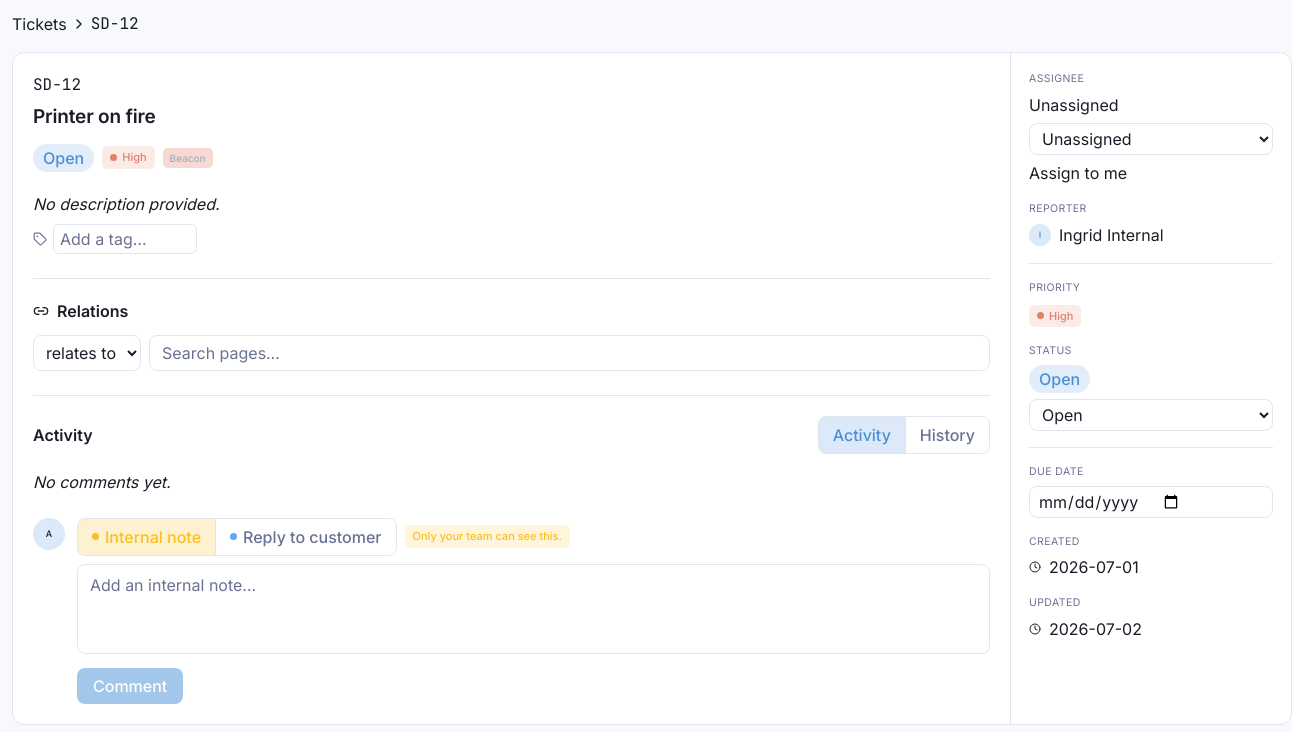
Test: comment composer visibility state chip › states the audience as a full sentence and changes it with the toggle
Check: the text with test id "comment-visibility-state" reads "Only your team can see this.", box x1=412 y1=529 x2=562 y2=543
Click the radio button labelled "Reply to customer" at (306, 537), box x1=216 y1=519 x2=396 y2=555
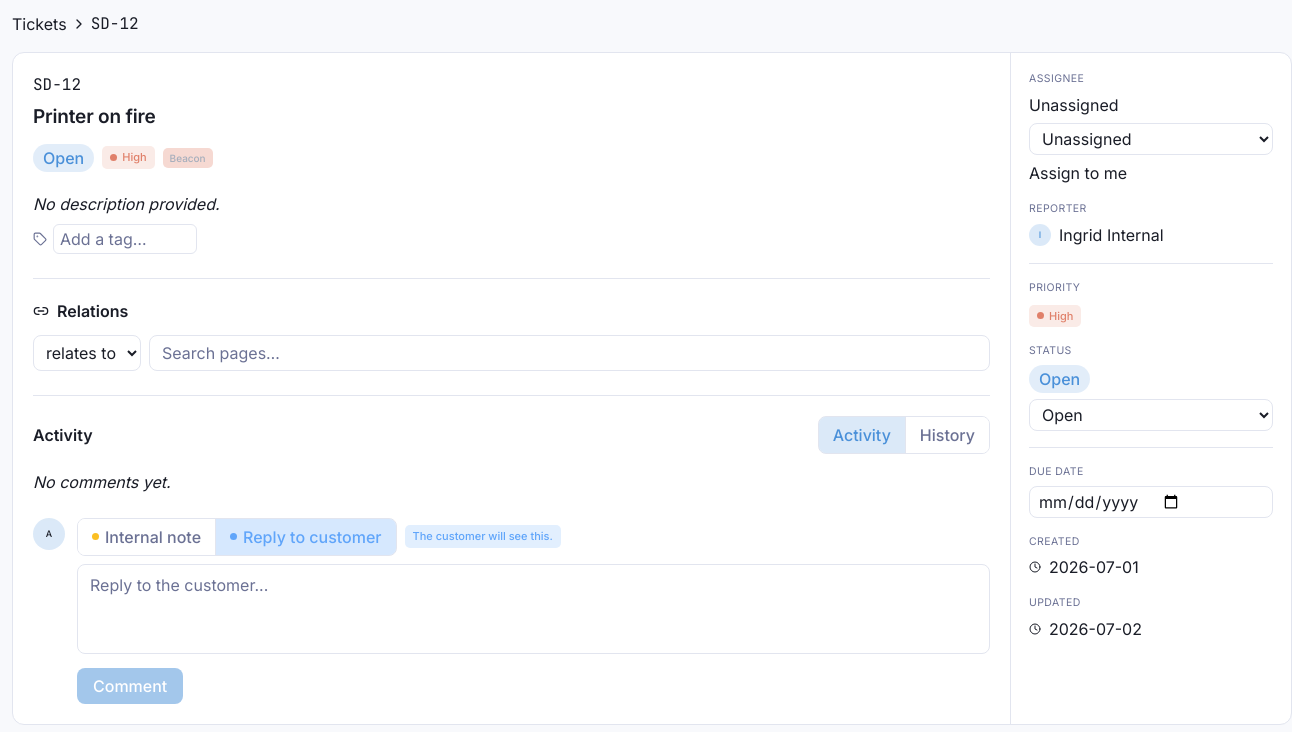
Check: the text with test id "comment-visibility-state" reads "The customer will see this.", box x1=412 y1=529 x2=553 y2=543
Note: And back — the chip tracks the control in both directions.
Click the radio button labelled "Internal note" at (147, 537), box x1=78 y1=519 x2=216 y2=555
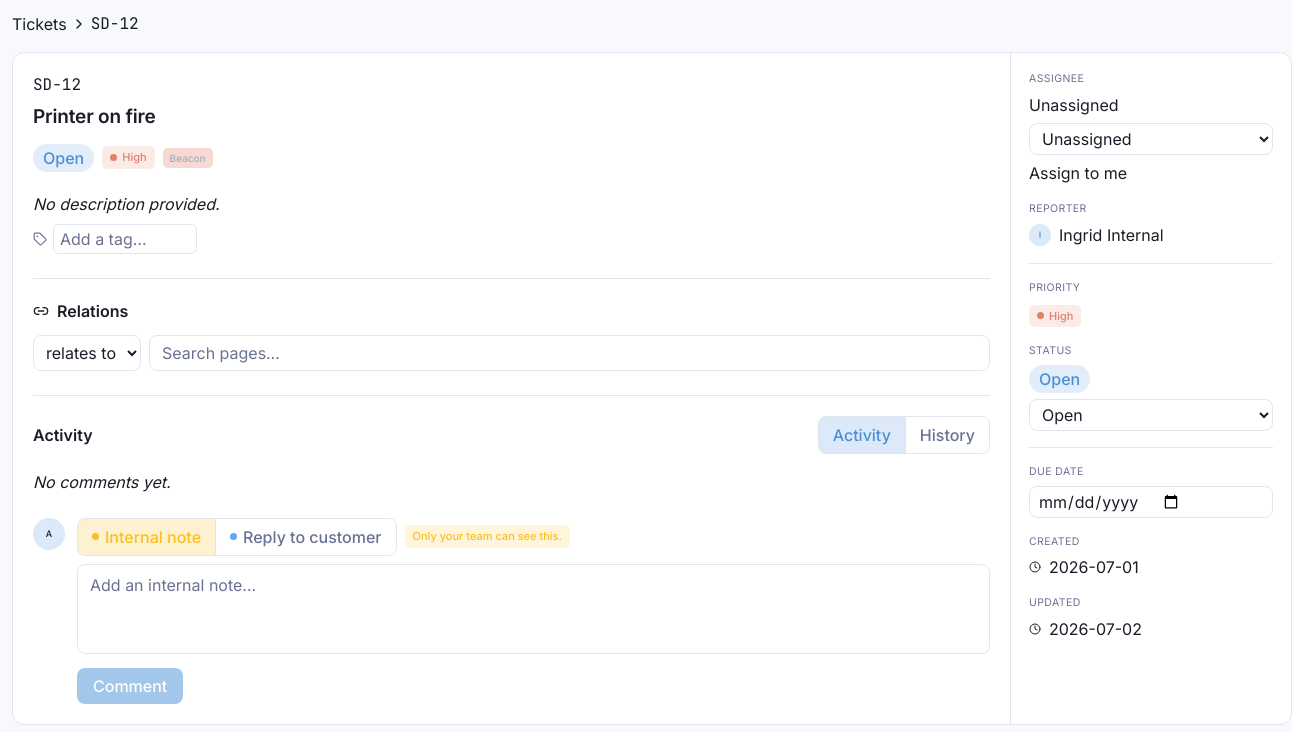
Check: the text with test id "comment-visibility-state" reads "Only your team can see this.", box x1=412 y1=529 x2=562 y2=543
